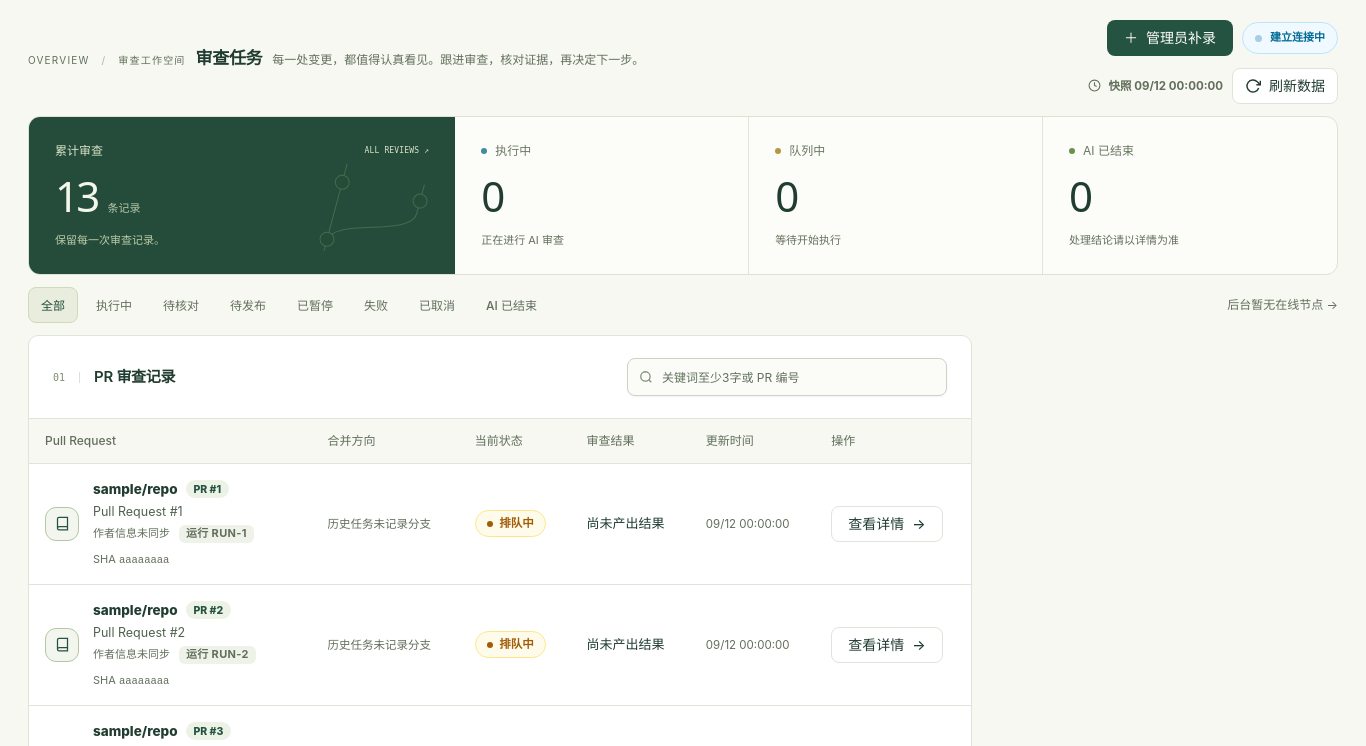
Test case: 手动审查由顶部按钮打开，取消后返回任务列表
The width and height of the screenshot is (1366, 746).
Expected: the text "PR #1" is shown, [186, 480, 229, 498]
Expected: the field labelled "Installation ID" is not shown
Click the button "＋ 管理员补录". click: click(1170, 38)
box: [1107, 20, 1233, 56]
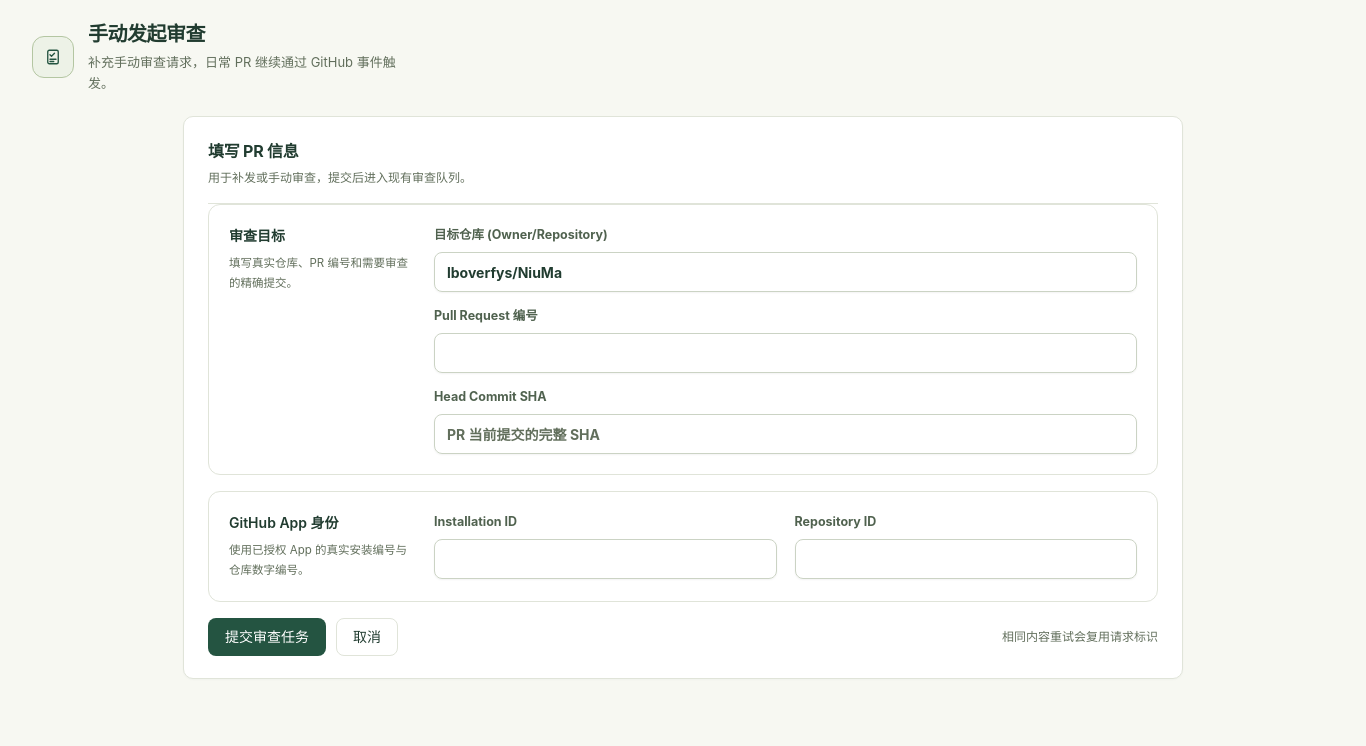
Result: the number field labelled "Installation ID" is not empty at [434, 539, 776, 579]
Click the button "取消". click: click(367, 637)
box: [336, 618, 398, 656]
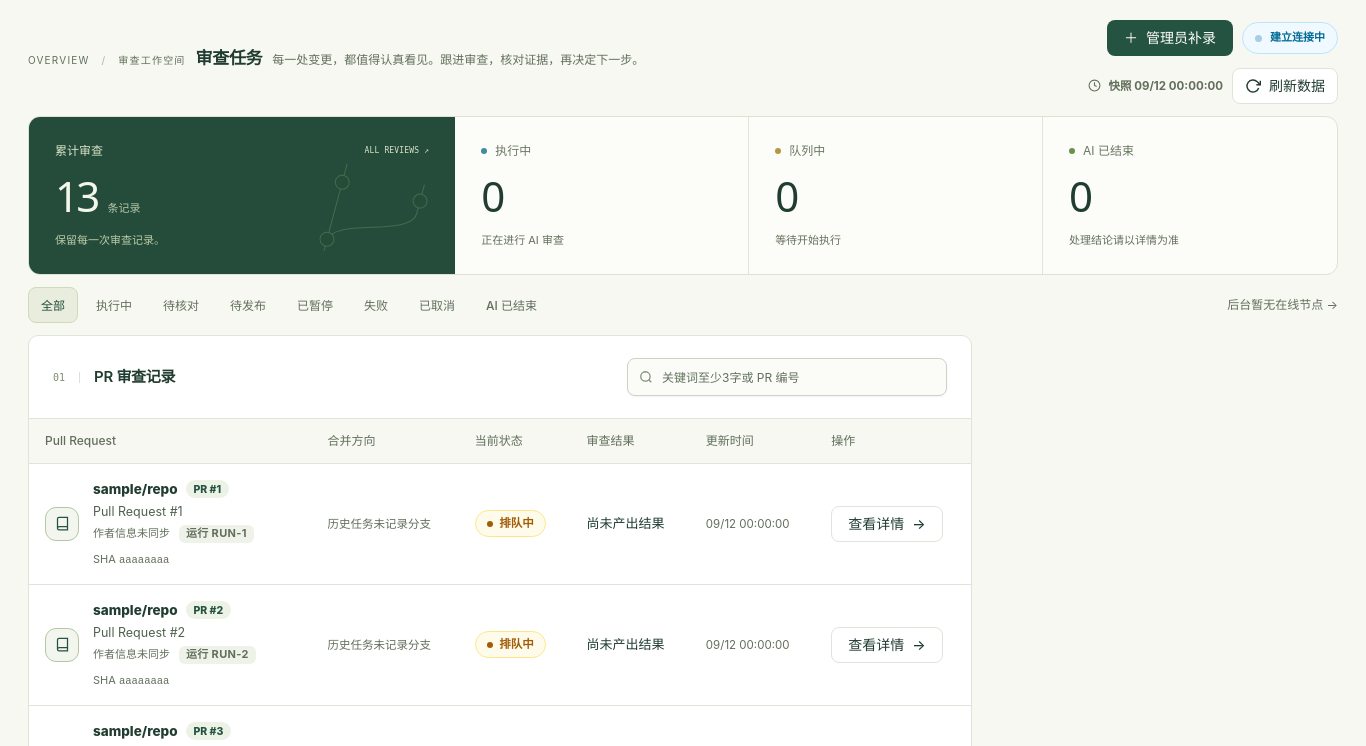
Result: the text "PR #1" is shown at [186, 480, 229, 498]
Result: the label labelled "Installation ID" is gone
